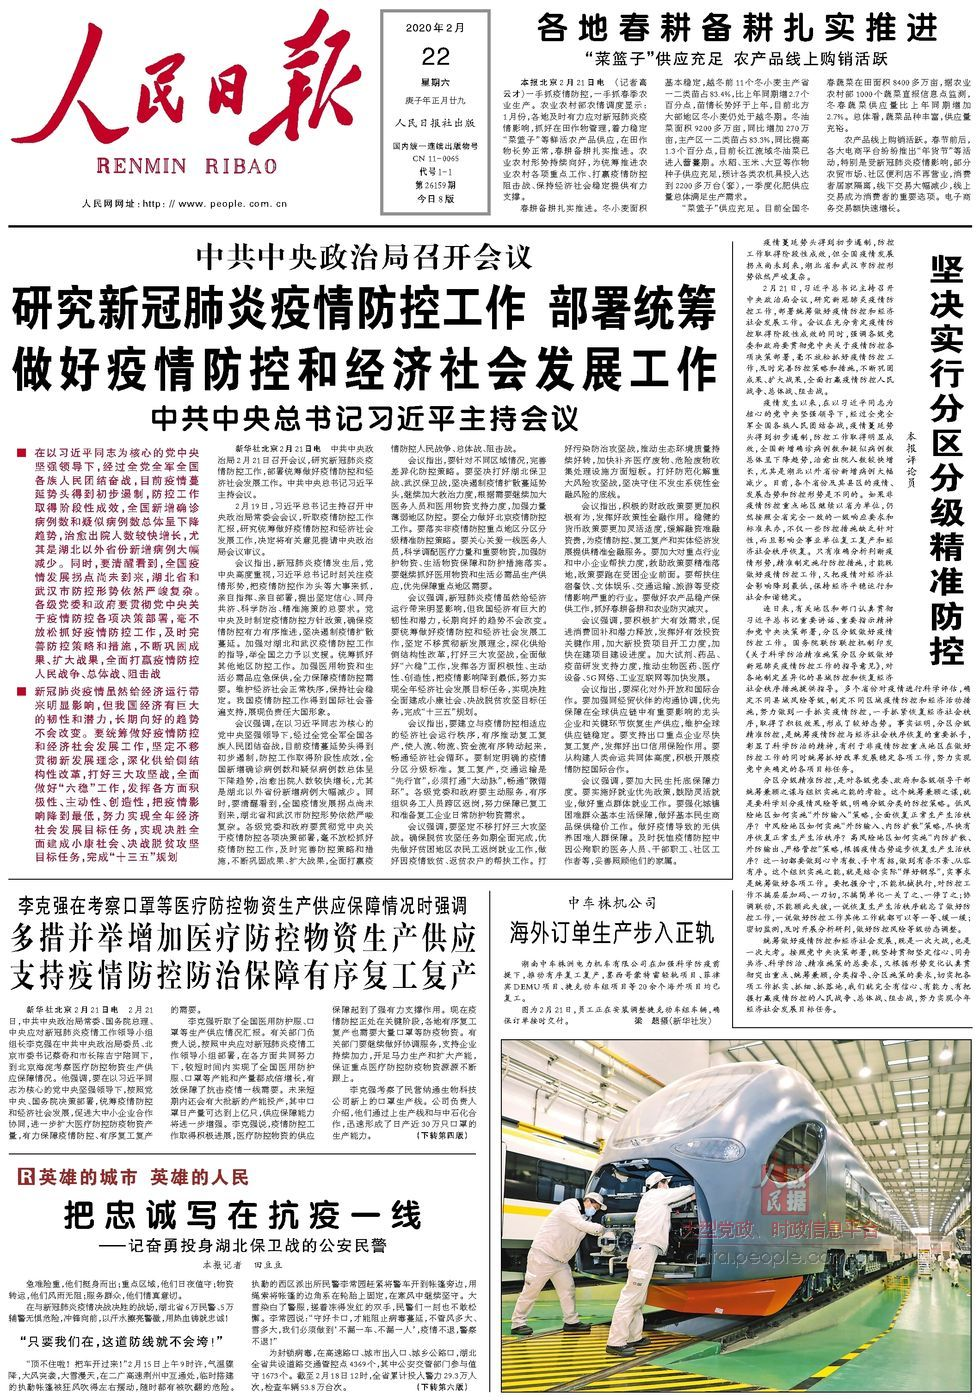pic: (497, 1034, 975, 1398)
